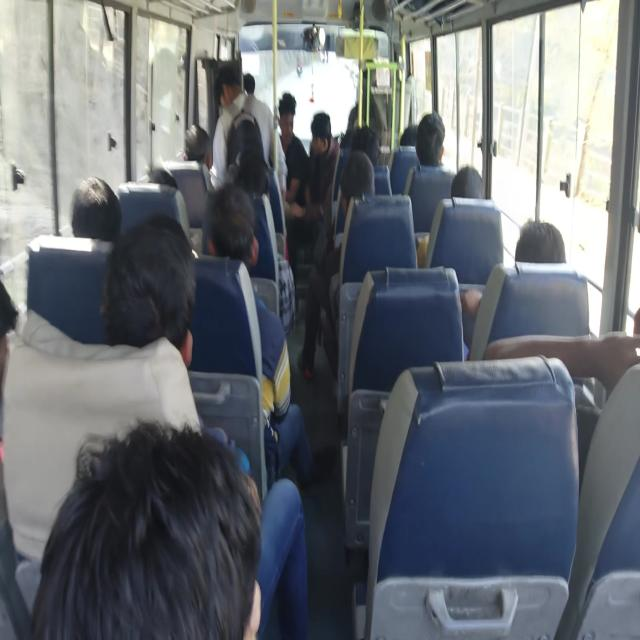person: (77, 462, 272, 640), (488, 312, 640, 422), (108, 234, 182, 366), (0, 292, 27, 478), (500, 201, 562, 281), (70, 173, 114, 266), (210, 206, 264, 273), (345, 158, 394, 218), (415, 103, 459, 168), (444, 153, 486, 205), (219, 69, 258, 118), (280, 94, 309, 148), (398, 113, 433, 153), (226, 160, 254, 199), (153, 159, 179, 193), (188, 118, 208, 158), (352, 127, 372, 154), (311, 124, 329, 152), (243, 63, 260, 85), (245, 147, 264, 165), (363, 140, 383, 156)
